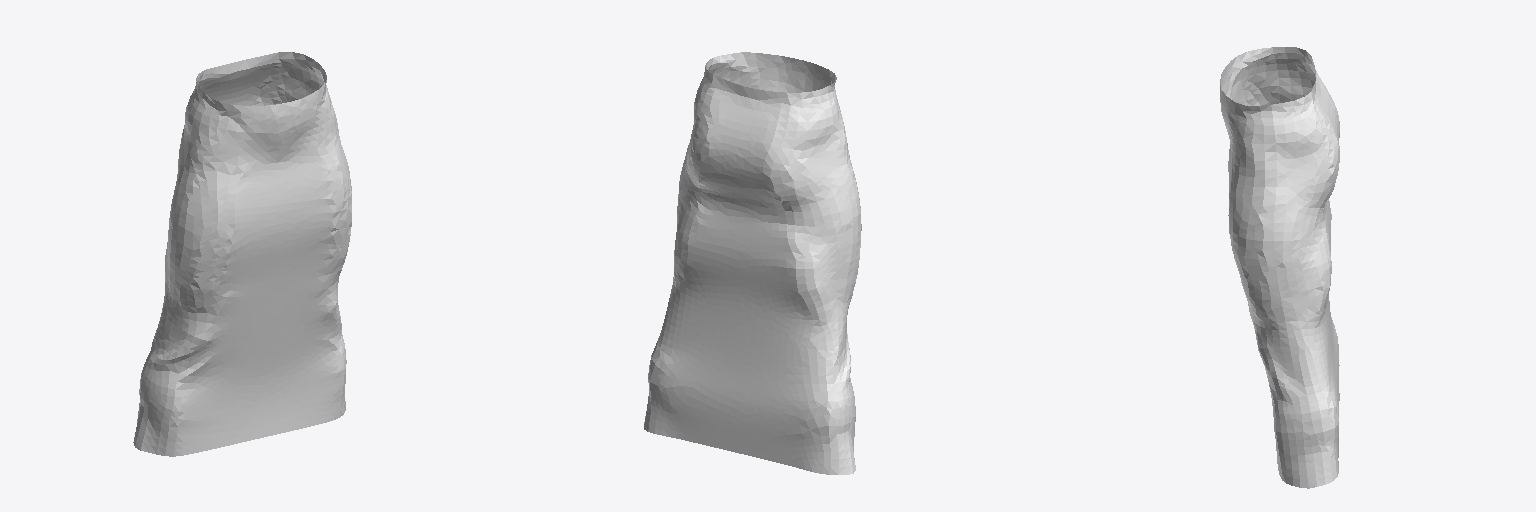
Rendered from bottom.obj.
3 renders of one model, left to right at view 1: azimuth 30°, elevation 25°; view 2: azimuth 150°, elevation 25°; view 3: azimuth 270°, elevation 25°, orthographic.
Parts seen in each view (by area): view 1: bottom; view 2: bottom; view 3: bottom.
Part boxes in pixels (bbox=[...]): bottom: bbox=[133, 52, 351, 456]; bottom: bbox=[644, 52, 861, 474]; bottom: bbox=[1220, 47, 1339, 488].
Size of the model in its own units: 52.93 by 90.1 by 26.78.